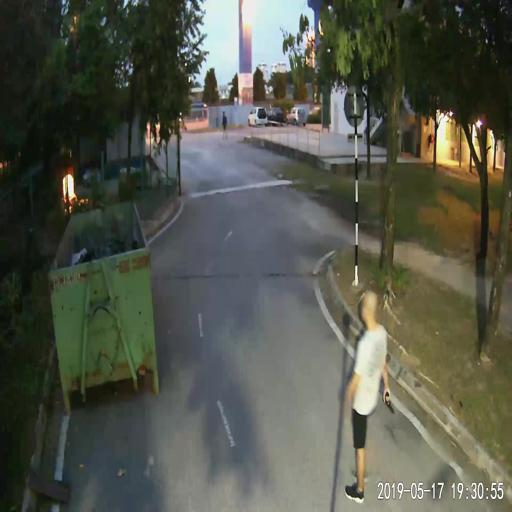Handgun: (381, 388, 393, 412)
